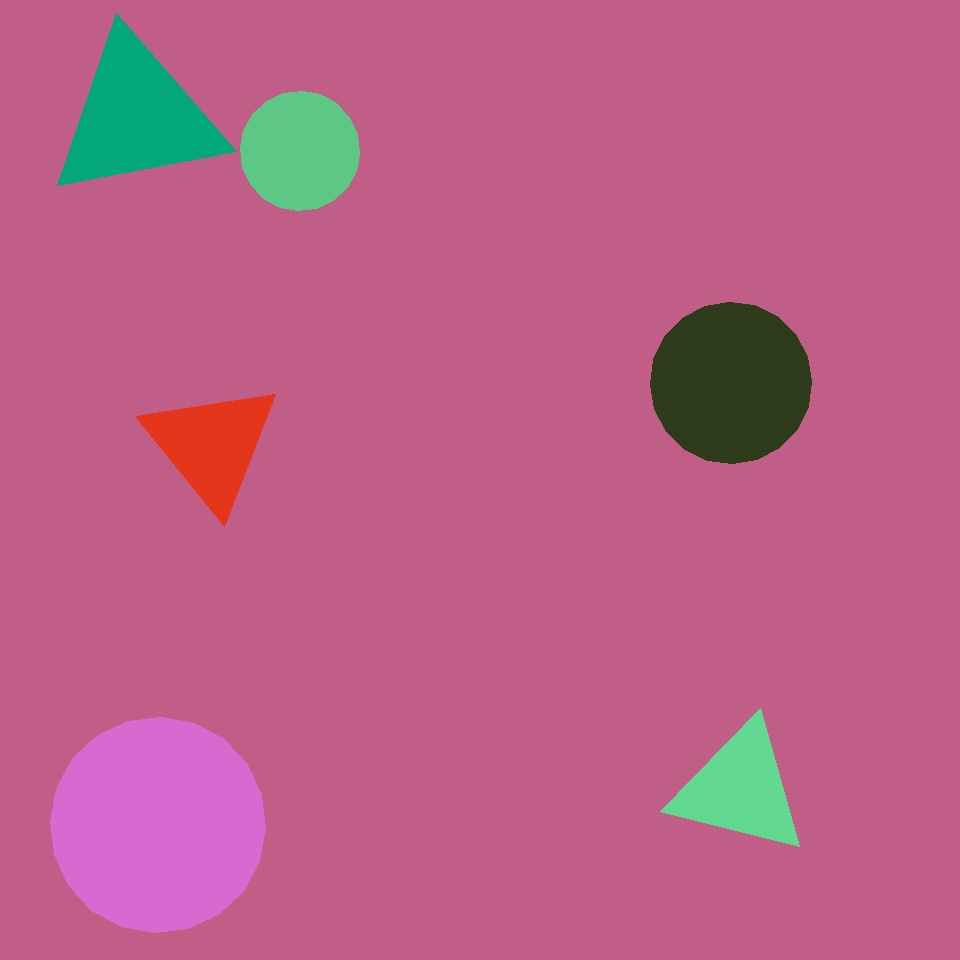circle: (468, 374, 769, 693), (47, 31, 226, 203), (670, 720, 810, 858), (142, 380, 282, 512)
square: (362, 767, 468, 873)
triangle: (206, 95, 539, 427), (50, 718, 266, 932), (650, 302, 812, 464), (240, 92, 360, 210)
